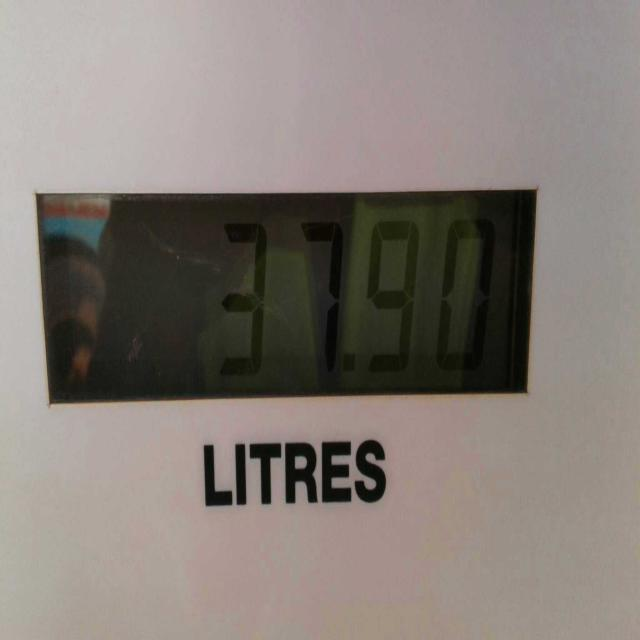.: (338, 342, 361, 377)
0: (435, 210, 502, 379)
3: (213, 212, 281, 385)
7: (292, 208, 346, 384)
9: (358, 212, 425, 385)
